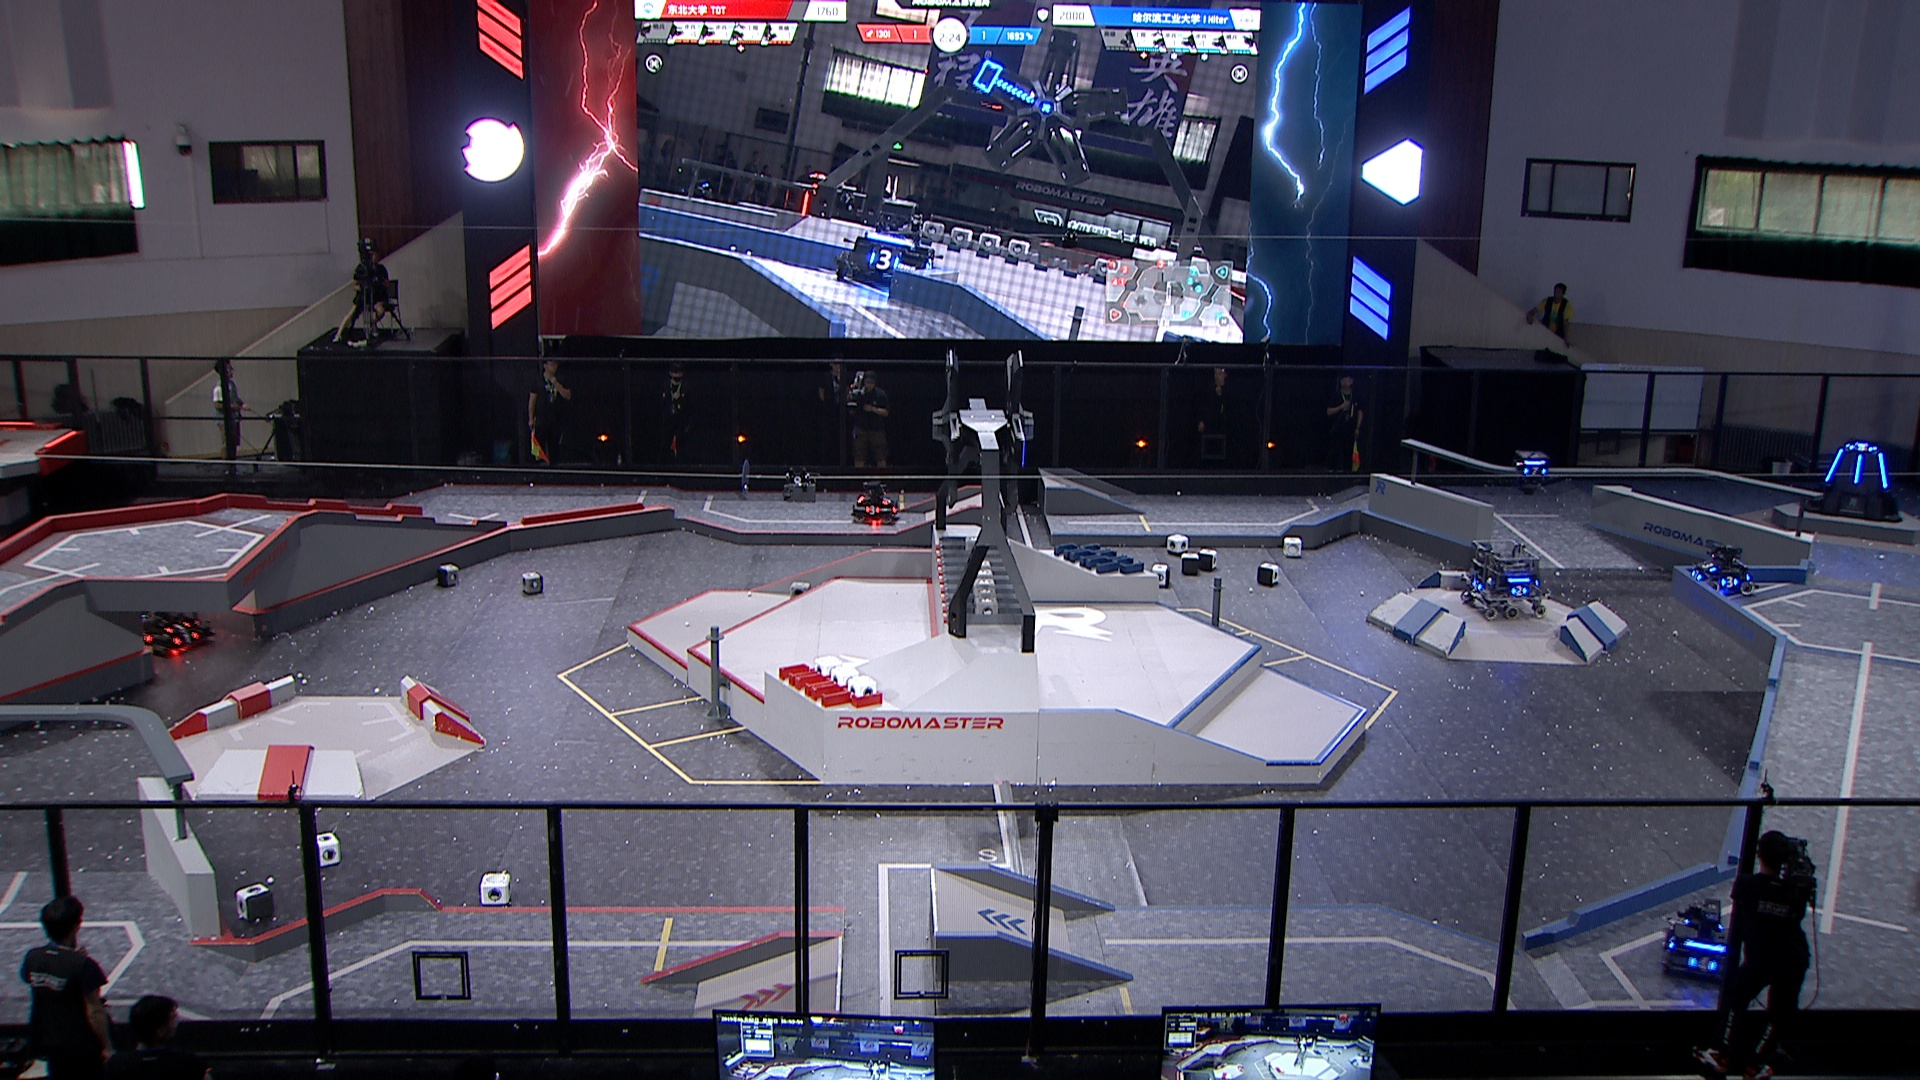armor: (1822, 446, 1844, 484), (1683, 953, 1721, 973), (169, 626, 202, 647), (1875, 448, 1890, 491), (164, 617, 196, 633), (1850, 450, 1865, 485), (1846, 442, 1875, 456), (1520, 465, 1548, 479), (1662, 932, 1679, 953), (1509, 584, 1532, 599), (1468, 574, 1484, 593), (1720, 572, 1738, 588), (864, 504, 880, 517), (1700, 560, 1717, 572), (880, 495, 894, 506), (1692, 567, 1704, 582)
base: (1799, 436, 1907, 527)
car: (109, 564, 211, 665), (1457, 535, 1552, 622), (1655, 897, 1745, 978), (1685, 541, 1760, 595), (851, 480, 901, 526)
ignore: (833, 195, 945, 291)
watcher: (1509, 444, 1555, 498)
